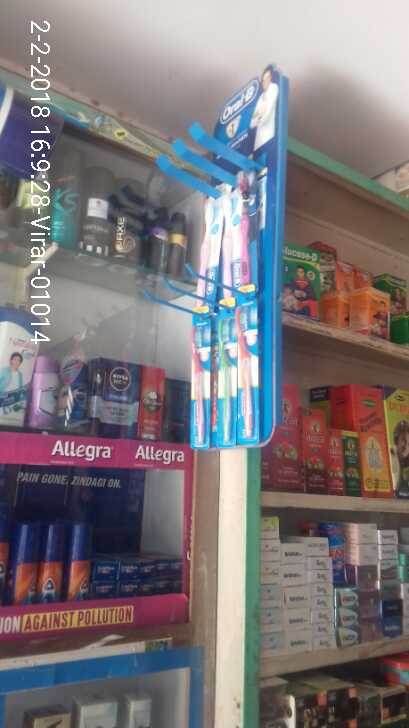oralb: (228, 171, 267, 294), (236, 303, 267, 442), (186, 318, 209, 446), (216, 314, 235, 451)
orlab: (191, 187, 214, 303)
